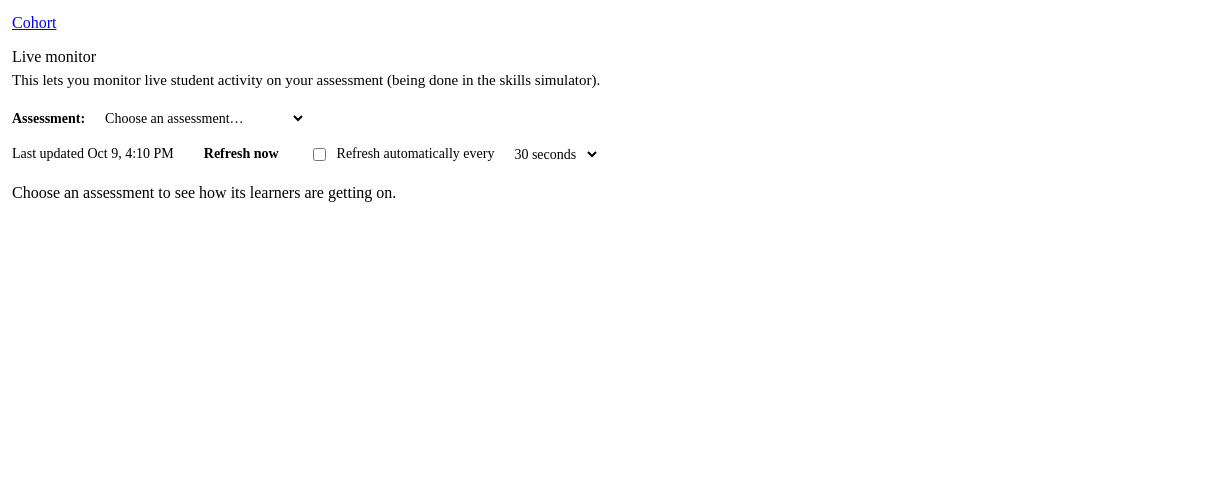
Test: MonitorPage › shows nothing until an assessment is chosen, then one at a time
Expected: the text "Choose an assessment to see how its learners are getting on." is shown, [12, 184, 396, 201]
Select "Post-assessment (1 in progress)" in the dropdown labelled "Assessment:": (200, 118) [93, 105, 306, 132]
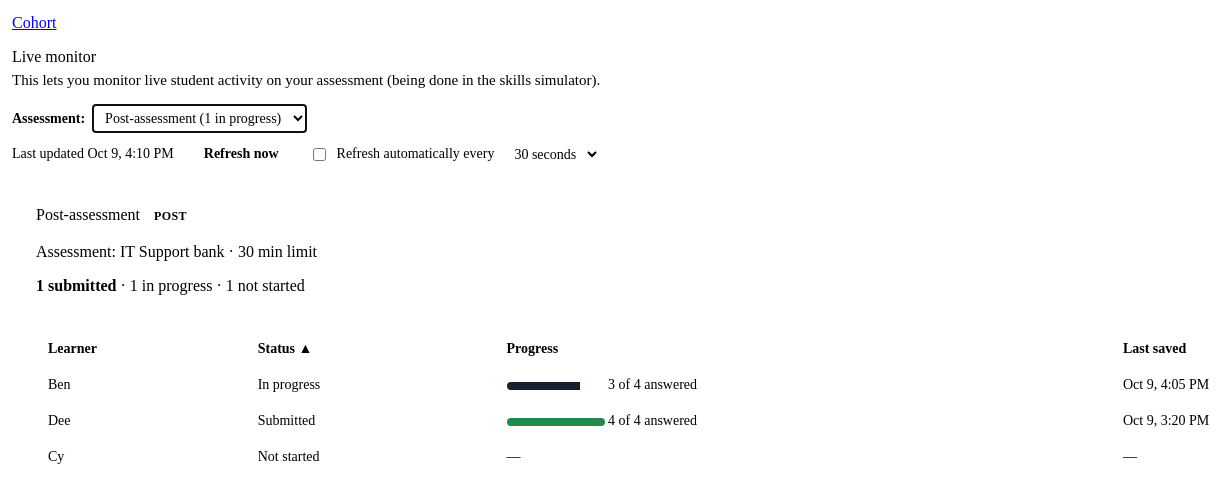
Result: the heading "Post-assessment post" is shown at [36, 206, 187, 223]
Select "Pre-assessment" in the dropdown labelled "Assessment:": (200, 118) [93, 105, 306, 132]
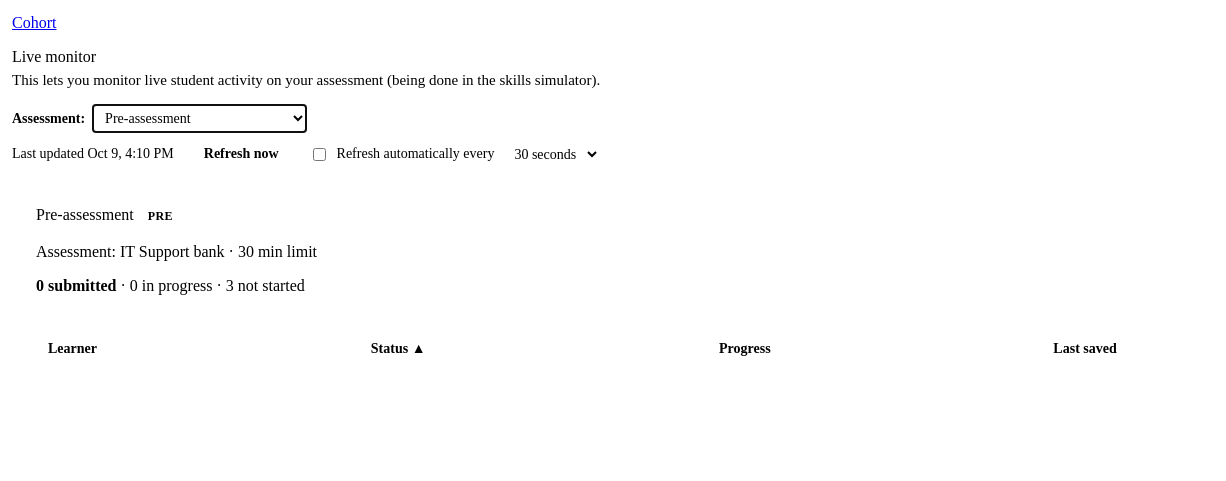
Result: the heading "Pre-assessment pre" is shown at [36, 206, 173, 223]
Result: the heading "Post-assessment" is gone
